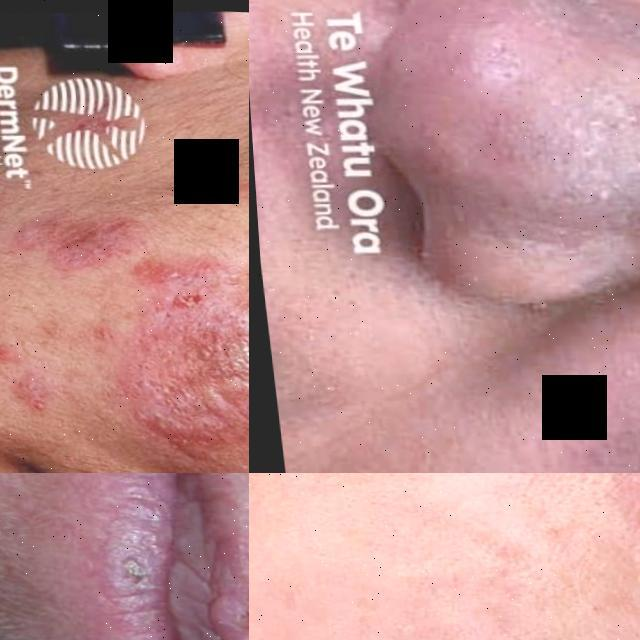lupus-detected: (355, 0, 640, 293), (0, 181, 182, 446), (113, 240, 249, 473), (73, 518, 188, 640), (560, 473, 640, 606), (192, 552, 249, 640)
